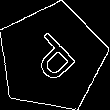P_SE: (21, 26, 83, 89)
